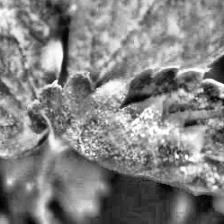Powdery Mildew Leaf: (24, 64, 224, 204)
